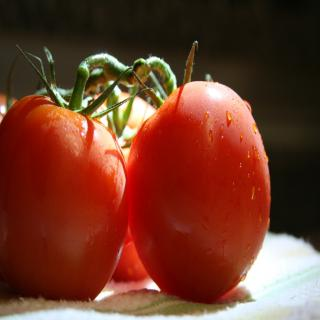tomato: (0, 42, 152, 302), (128, 38, 272, 303), (92, 89, 162, 283)
